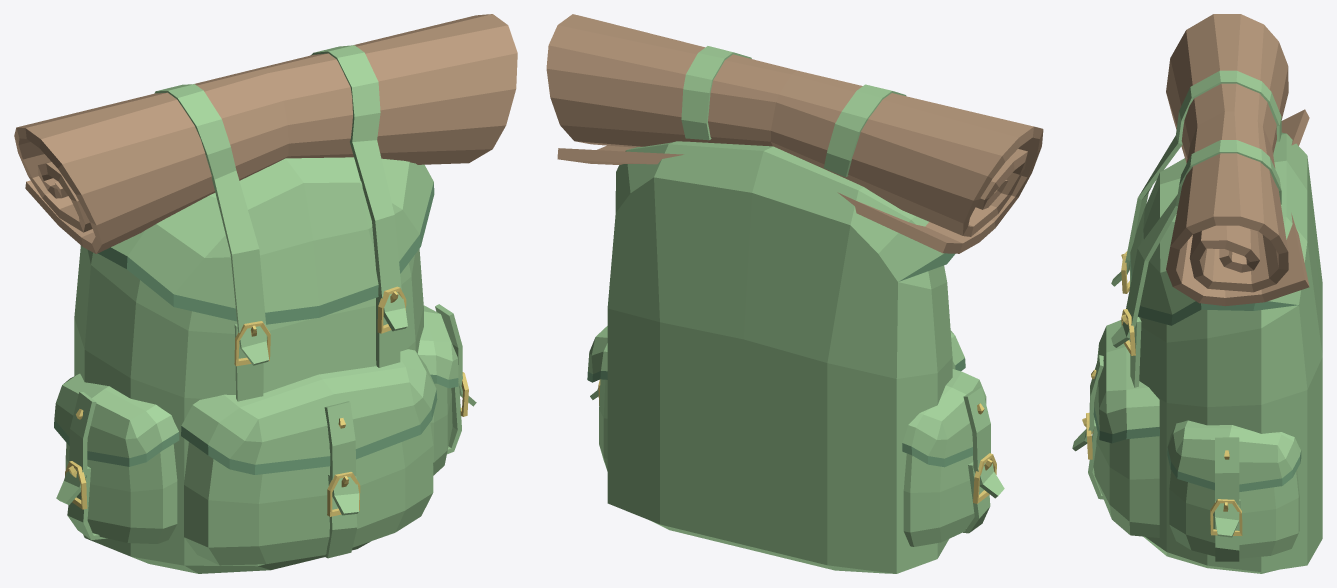
Rendered from backpack.glb.
3 renders of one model, left to right at view 1: azimuth 30°, elevation 25°; view 2: azimuth 150°, elevation 25°; view 3: azimuth 270°, elevation 25°, orthographic. The views are drawn at different scales.
Parts seen in each view (by area): view 1: Backpack; view 2: Backpack; view 3: Backpack.
Boxes of the visible parts, x1,y1,x2,y2 form: Backpack: (14,14,517,573); Backpack: (546,14,1043,573); Backpack: (1072,14,1322,573).
Bounding box in the file's own units: 3.34 × 3.12 × 1.75.
